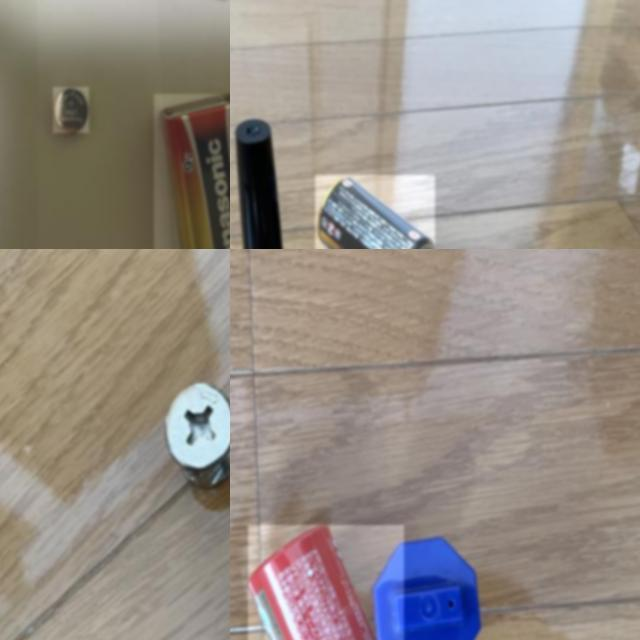9V: (154, 94, 230, 249)
